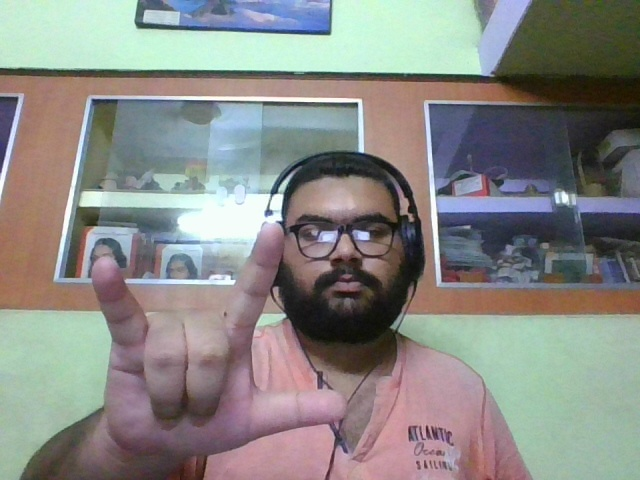hello: (90, 222, 347, 454)
